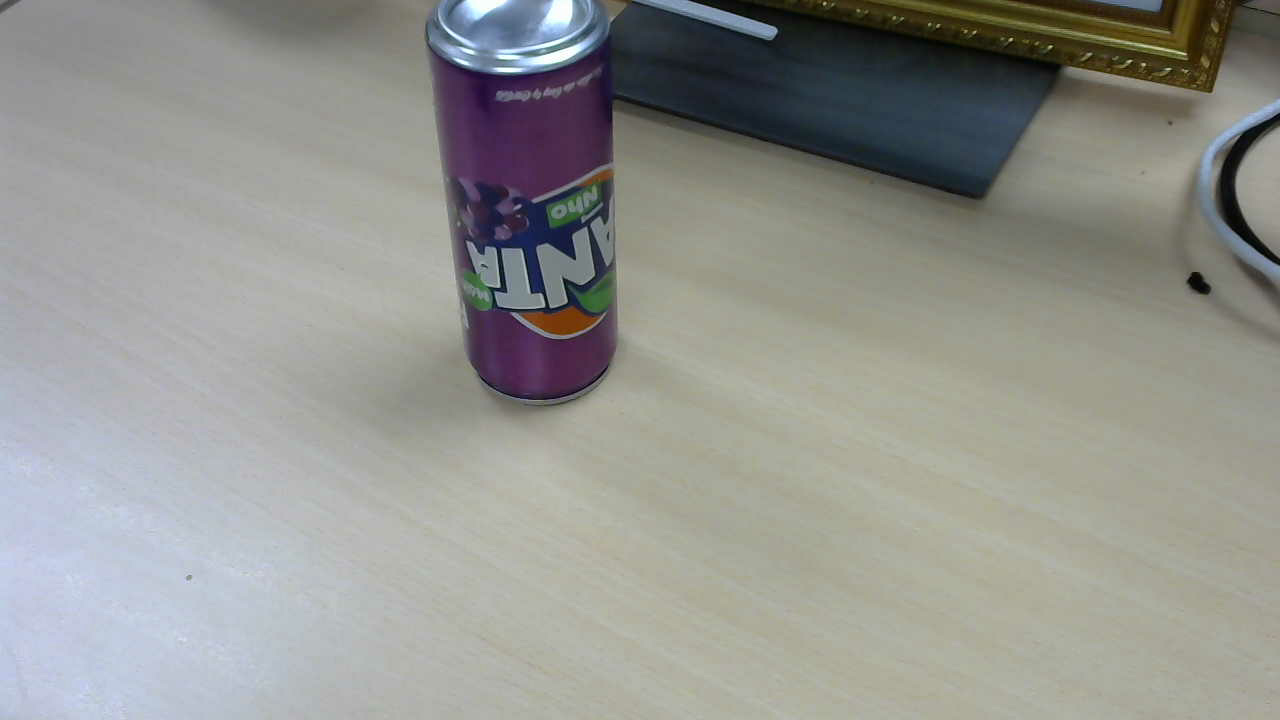Fanta: (430, 6, 625, 411)
